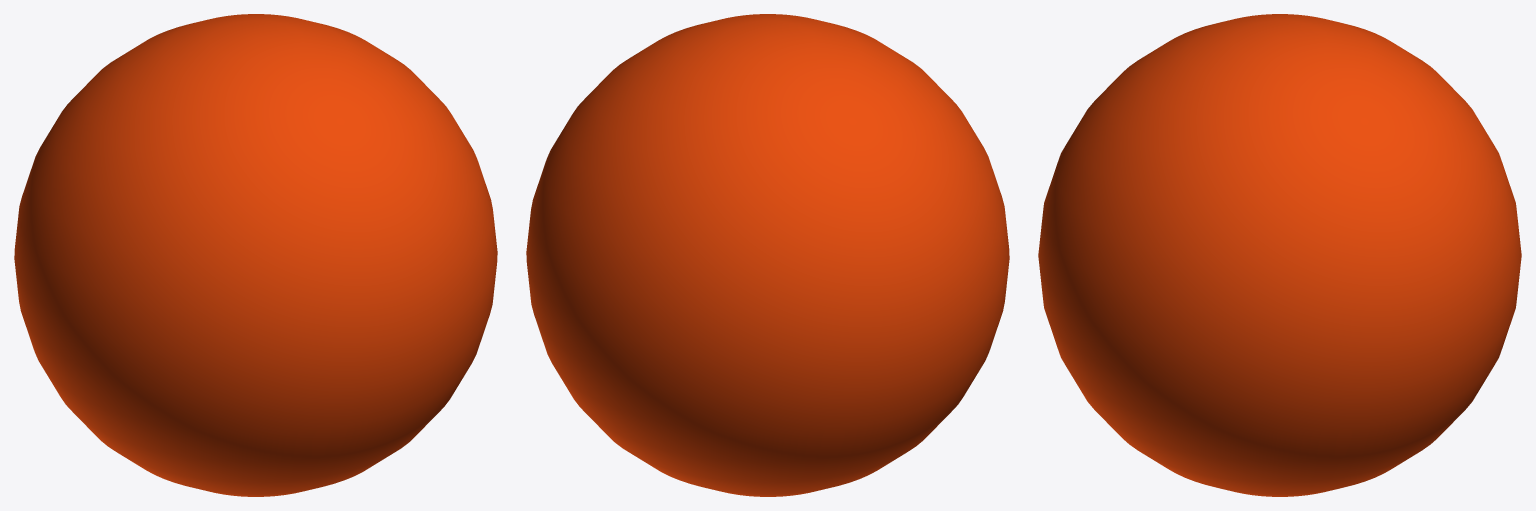
Rendered from ORBTarget.glb.
3 renders of one model, left to right at view 1: azimuth 30°, elevation 25°; view 2: azimuth 150°, elevation 25°; view 3: azimuth 270°, elevation 25°, orthographic.
Parts seen in each view (by area): view 1: Orb; view 2: Orb; view 3: Orb.
Boxes of the visible parts, x1,y1,x2,y2 form: Orb: (14, 14, 497, 496); Orb: (526, 14, 1009, 496); Orb: (1038, 14, 1521, 496).
Bounding box in the file's own units: 5.4 × 5.4 × 5.4.
